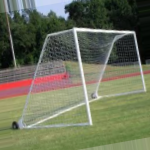goals: (20, 26, 147, 129)
